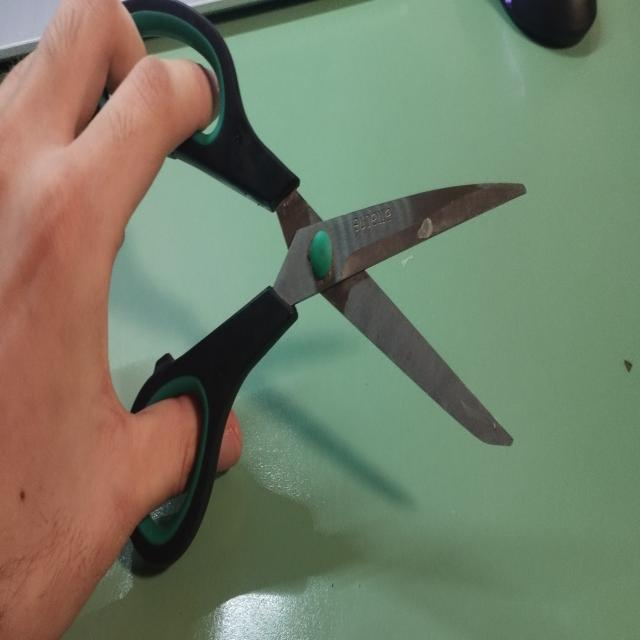tesoura: (116, 0, 532, 572)
